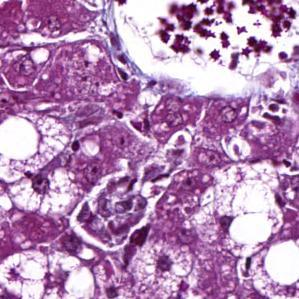ballooning: (196, 158, 285, 259), (3, 112, 84, 221), (4, 247, 96, 295)
